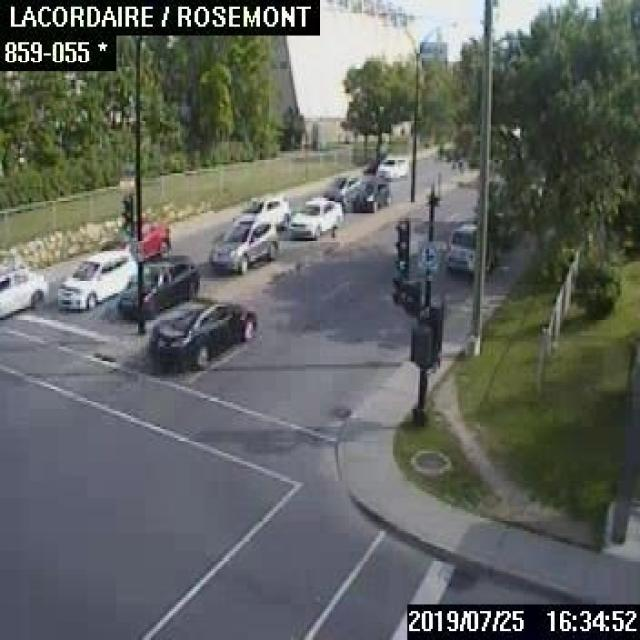vehicle: (148, 295, 256, 366), (116, 253, 199, 317), (55, 248, 136, 310), (209, 218, 276, 272), (100, 218, 170, 261), (443, 224, 491, 273), (0, 268, 45, 319), (288, 195, 341, 237), (233, 194, 288, 231), (352, 177, 390, 211), (324, 173, 360, 208), (375, 156, 406, 180), (362, 159, 374, 172)
